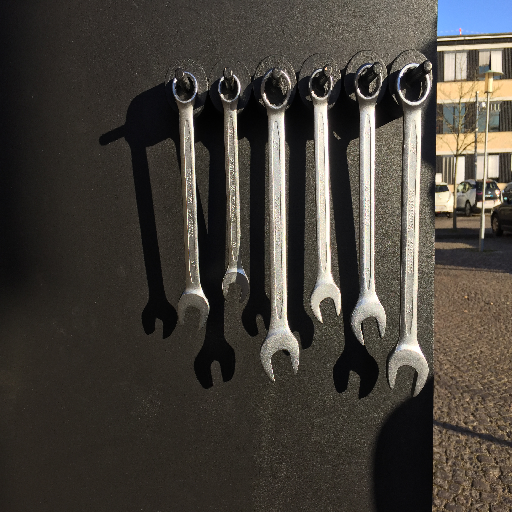bottom: (386, 343, 431, 398), (258, 328, 303, 382), (350, 293, 388, 345), (308, 277, 343, 323), (176, 285, 211, 330), (219, 267, 252, 303)
top: (394, 61, 434, 110), (260, 67, 292, 113), (353, 62, 385, 104), (170, 70, 200, 106), (306, 67, 334, 102), (216, 73, 243, 105)
